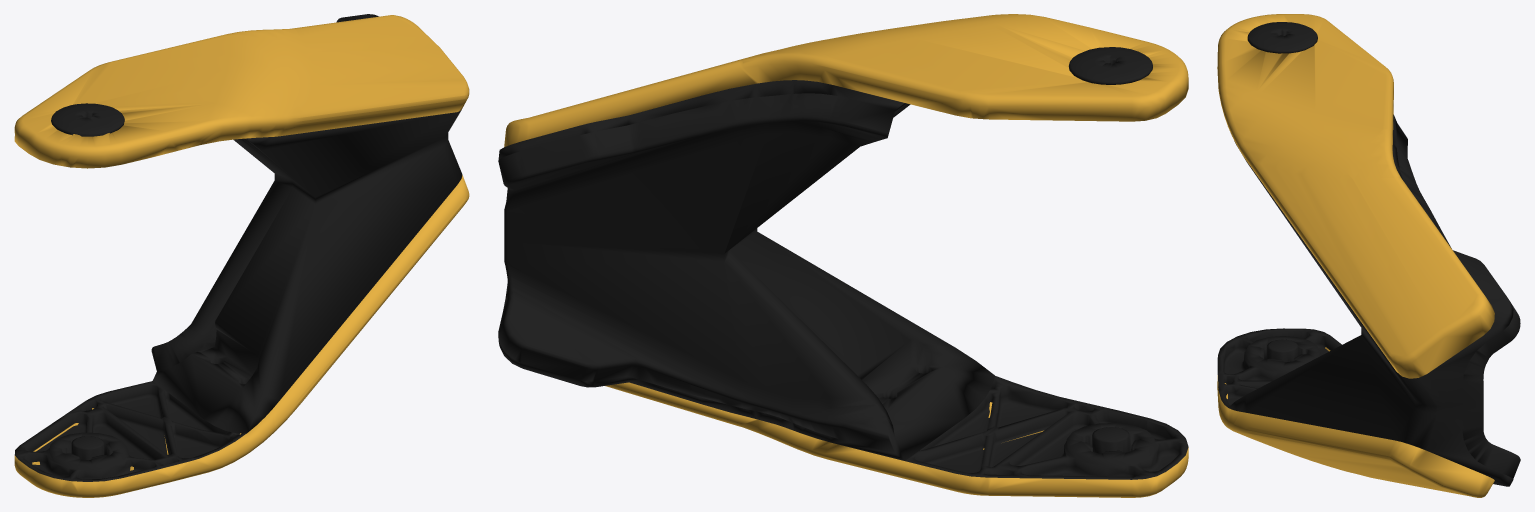
Rendered from arm_link_fngr.obj.
3 views of the same model, side by side, from view 1: azimuth 30°, elevation 25°; view 2: azimuth 150°, elevation 25°; view 3: azimuth 270°, elevation 25° (orthographic). The views are drawn at different scales.
Visible parts, largest first — view 1: arm0.link_fngr_BlackAbs, arm0.link_fngr_wrap; view 2: arm0.link_fngr_BlackAbs, arm0.link_fngr_wrap; view 3: arm0.link_fngr_wrap, arm0.link_fngr_BlackAbs.
Part boxes in pixels (left/top/right/bottom): arm0.link_fngr_BlackAbs: left=14, top=14, right=462, bottom=481; arm0.link_fngr_wrap: left=14, top=15, right=469, bottom=497; arm0.link_fngr_BlackAbs: left=498, top=47, right=1188, bottom=479; arm0.link_fngr_wrap: left=504, top=14, right=1188, bottom=497; arm0.link_fngr_wrap: left=1217, top=14, right=1494, bottom=497; arm0.link_fngr_BlackAbs: left=1217, top=22, right=1520, bottom=486.
Size of the model in its own units: 0.1415 by 0.097 by 0.0771.
